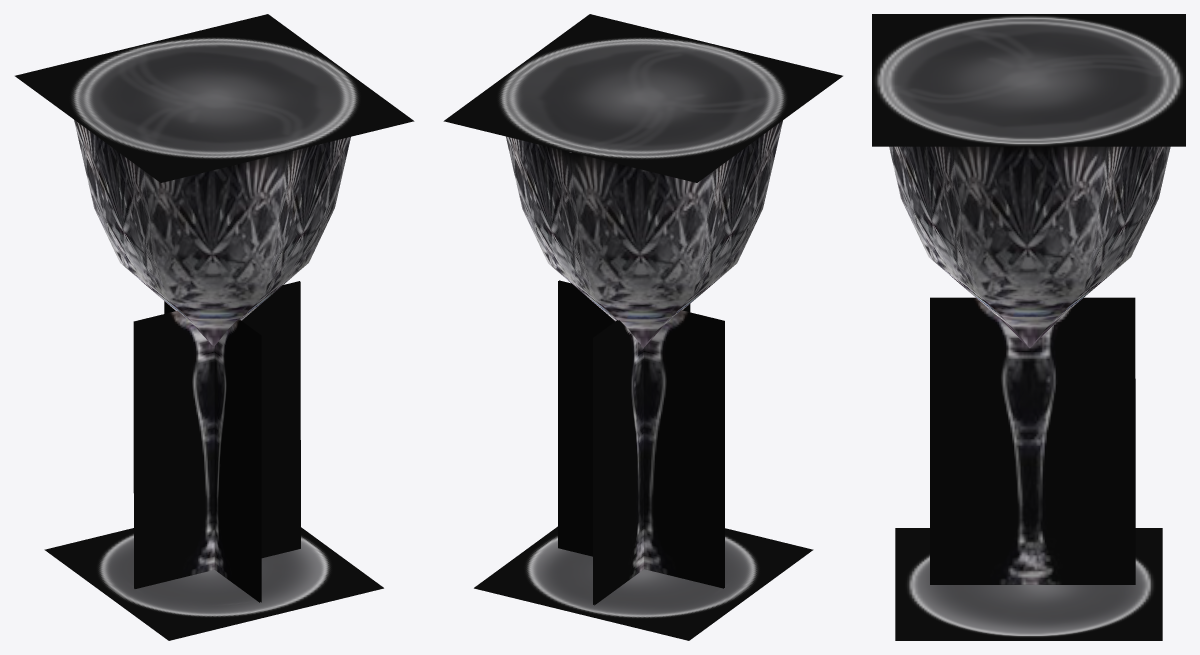
Rendered from Wine_Glass.fbx.
3 renders of one model, left to right at view 1: azimuth 30°, elevation 25°; view 2: azimuth 150°, elevation 25°; view 3: azimuth 270°, elevation 25°, orthographic. The views are drawn at different scales.
Visible parts, largest first — view 1: Wine_glass_LOD0; view 2: Wine_glass_LOD0; view 3: Wine_glass_LOD0.
Boxes of the visible parts, x1,y1,x2,y2 form: Wine_glass_LOD0: (15,14,414,640); Wine_glass_LOD0: (443,14,842,640); Wine_glass_LOD0: (872,14,1185,640).
Size of what is drawn, in the model's own units: 25.2 by 45 by 25.2.
